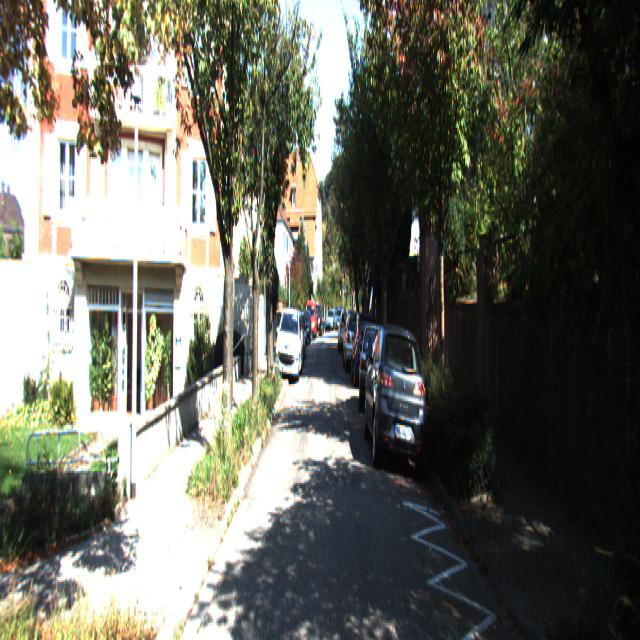Car: (362, 321, 429, 493), (359, 318, 392, 422), (350, 309, 380, 392), (274, 306, 304, 386), (342, 306, 367, 373)
